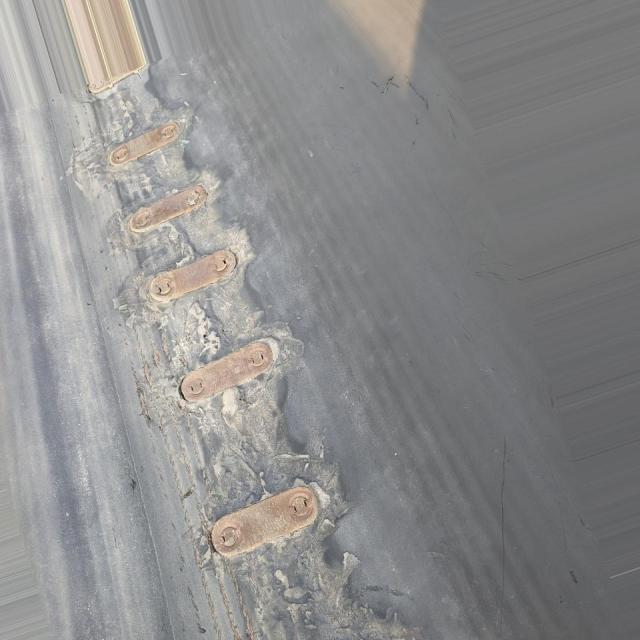patch work: (72, 78, 399, 640)
